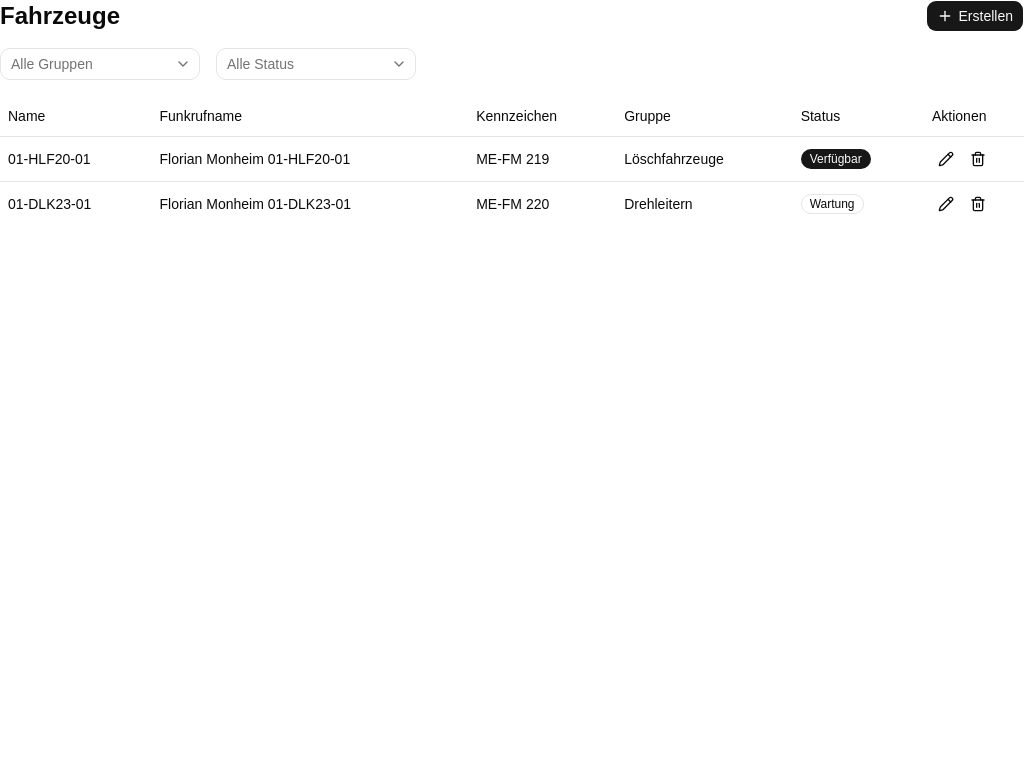
VehiclesPage › opens edit dialog when edit button is clicked
Click the button named "Bearbeiten" in the row of "Florian Monheim 01-HLF20-01": point(946, 158) 932,144 -> 960,172
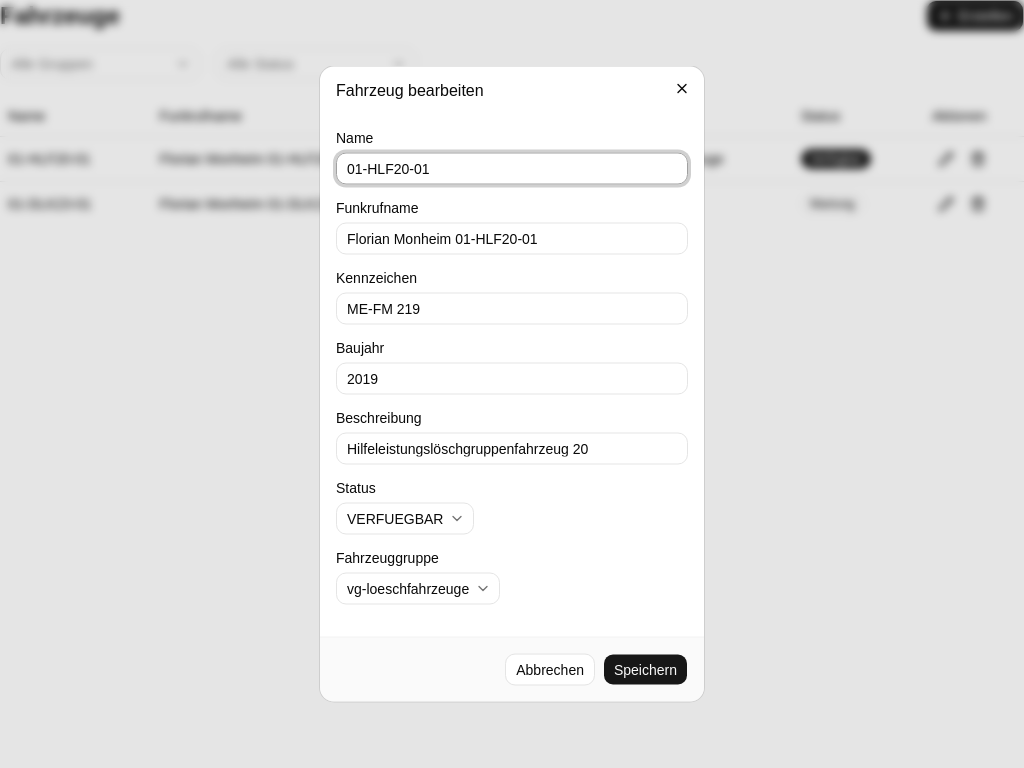
Check: the heading "Fahrzeug bearbeiten" is shown, box 336,82 -> 484,98
